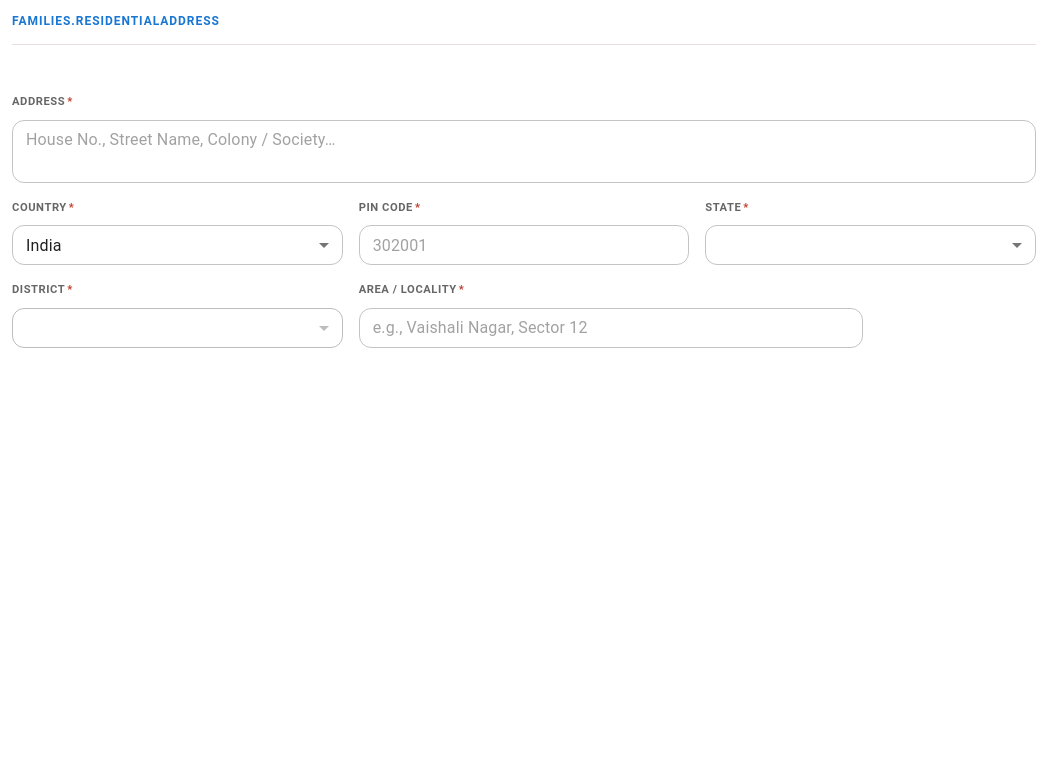
Test case: AddressStep › switches State/District/PIN to free text for a non-India country
Click the dropdown labelled "India": (44, 245) [26,236,62,255]
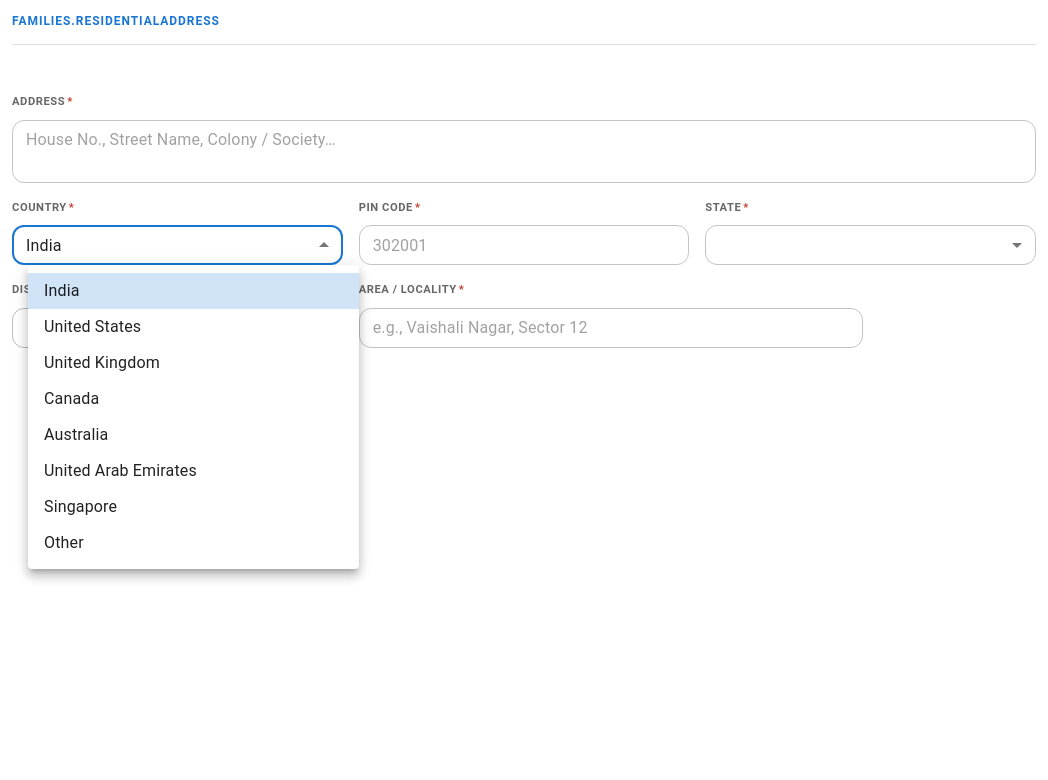
Click the option "United States": (93, 326) [44,317,141,336]
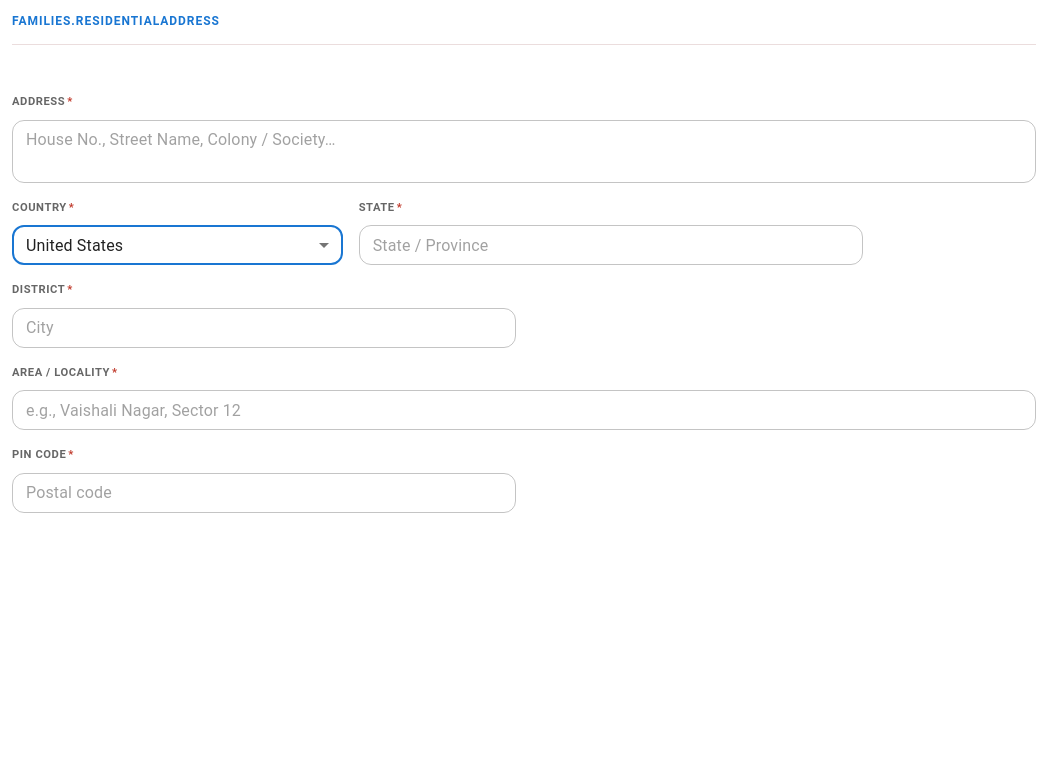
Now the field with placeholder "State / Province" is shown, box [359,225,863,265]
Now the field with placeholder "City" is shown, box [12,308,516,348]
Now the field with placeholder "Postal code" is shown, box [12,473,516,513]
